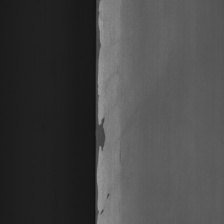water_spot: (89, 0, 113, 224)
